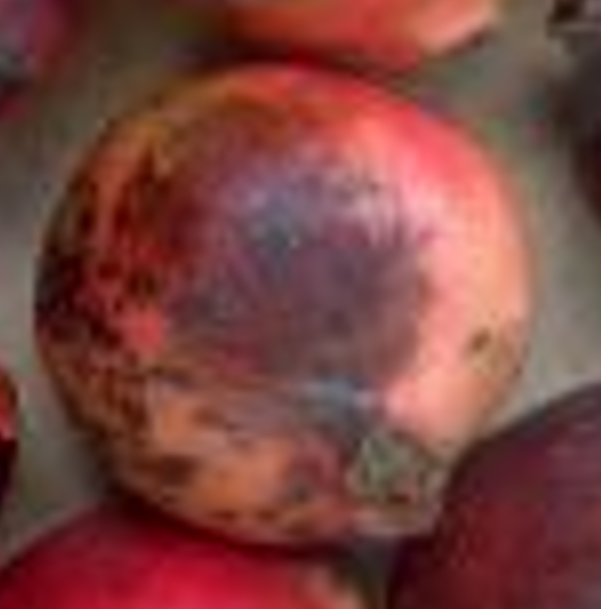pomegranate_C: (33, 59, 533, 548)
